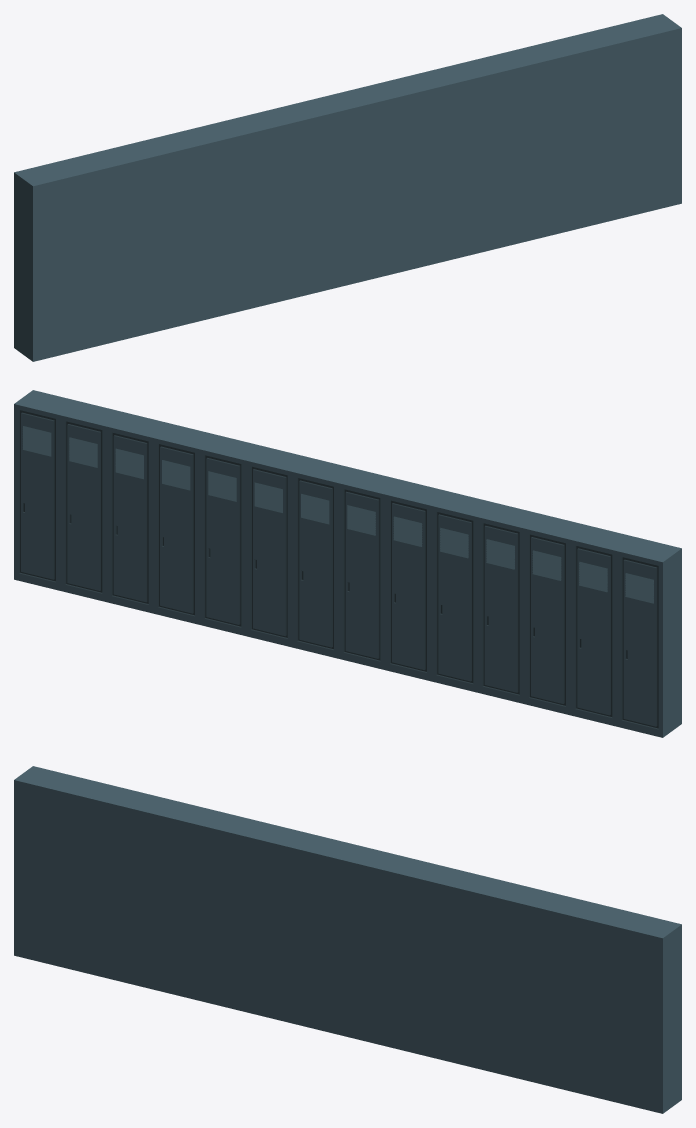
File: lockers.glb
3 renders of one model, top to bottom at view 1: azimuth 30°, elevation 25°; view 2: azimuth 150°, elevation 25°; view 3: azimuth 330°, elevation 25°, orthographic.
Visible parts, largest first — view 1: Locker; view 2: Locker; view 3: Locker.
Boxes of the visible parts, x1,y1,x2,y2 form: Locker: [14, 14, 681, 361]; Locker: [14, 390, 681, 737]; Locker: [14, 766, 681, 1113].
Size of the model in its own units: 9.8 by 2.53 by 0.5077.
